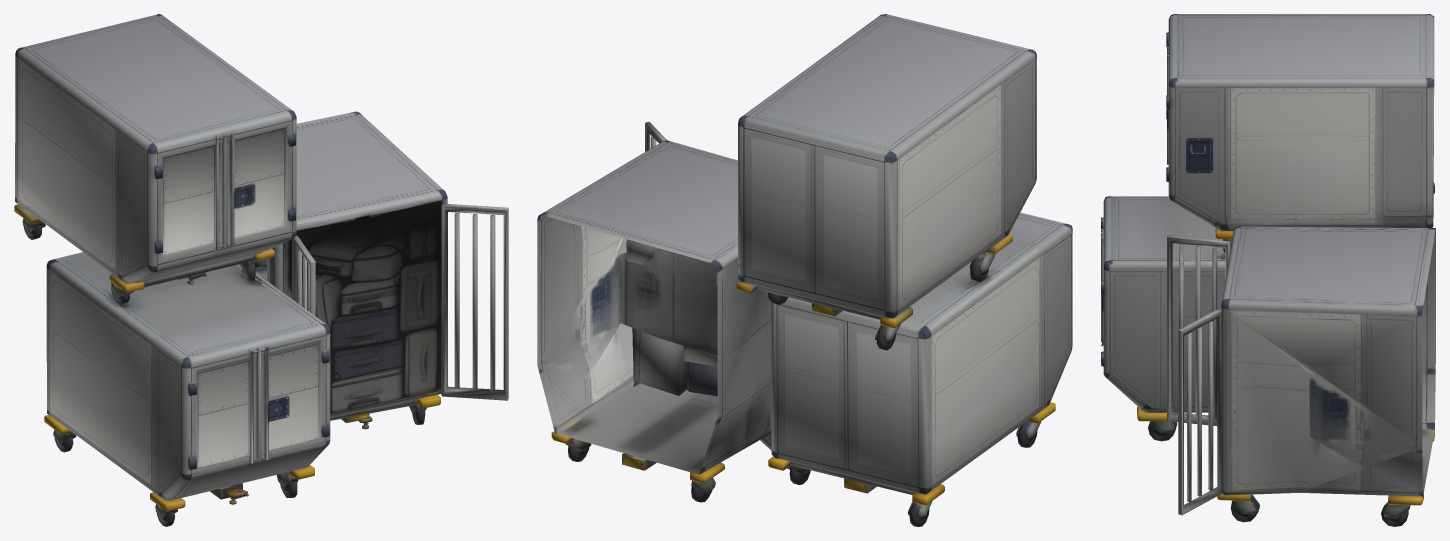
File: containers_carga.glb
The picture shows the model from 3 angles, left to right: view 1: azimuth 30°, elevation 25°; view 2: azimuth 150°, elevation 25°; view 3: azimuth 270°, elevation 25°; orthographic projection. The views are drawn at different scales.
Parts seen in each view (by area): view 1: Contêineres de bagagem e carga; view 2: Contêineres de bagagem e carga; view 3: Contêineres de bagagem e carga.
Part boxes in pixels (x1,y1,x2,y2): Contêineres de bagagem e carga: [14, 14, 508, 526]; Contêineres de bagagem e carga: [537, 14, 1072, 526]; Contêineres de bagagem e carga: [1101, 14, 1435, 526].
Bounding box in the file's own units: 0.998 × 0.9902 × 0.8223.
Materials: 1 (1 with a texture image).
